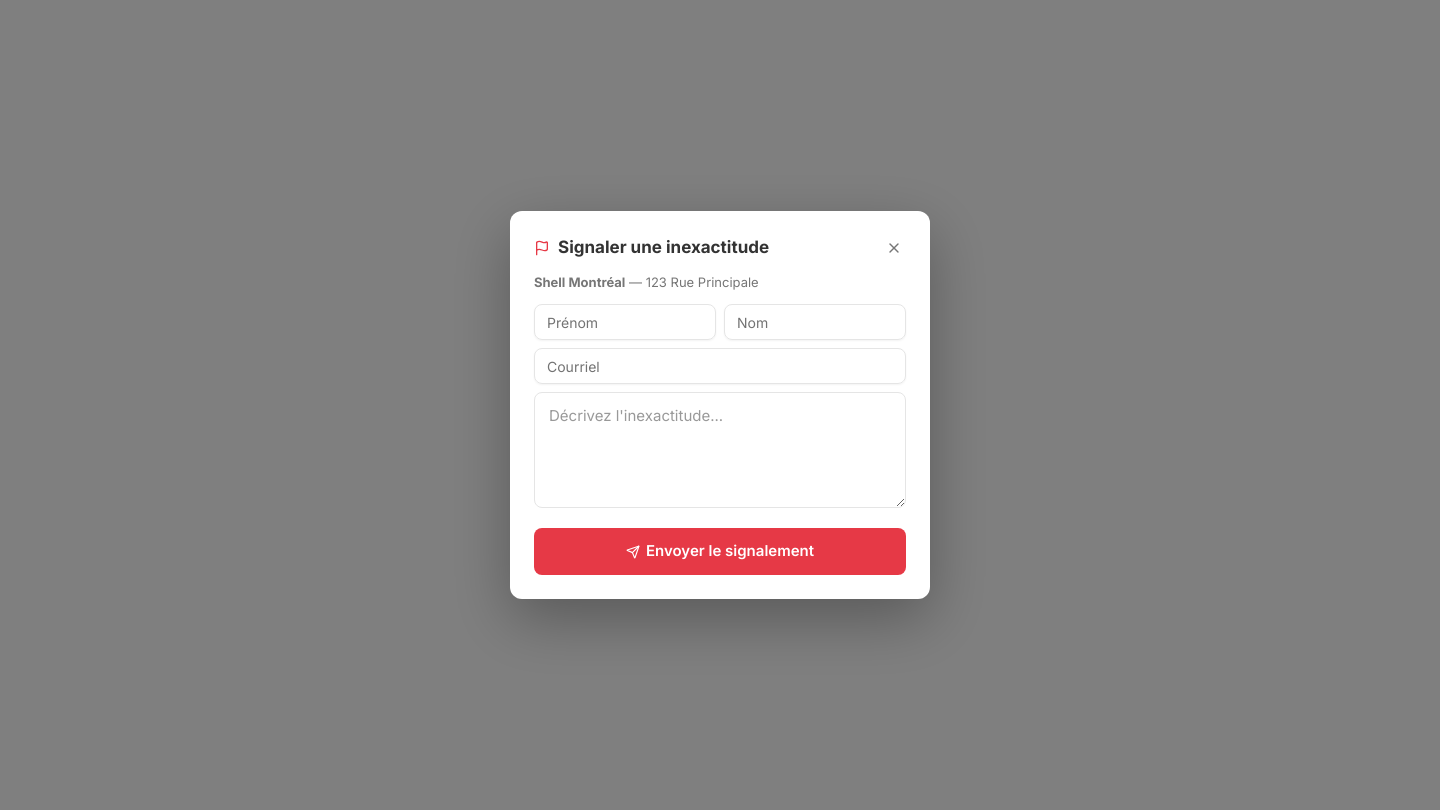
ReportModal › affiche les erreurs de validation quand on soumet un formulaire vide
Click the button "Envoyer le signalement". click: (720, 552)
box: x1=534 y1=528 x2=906 y2=575
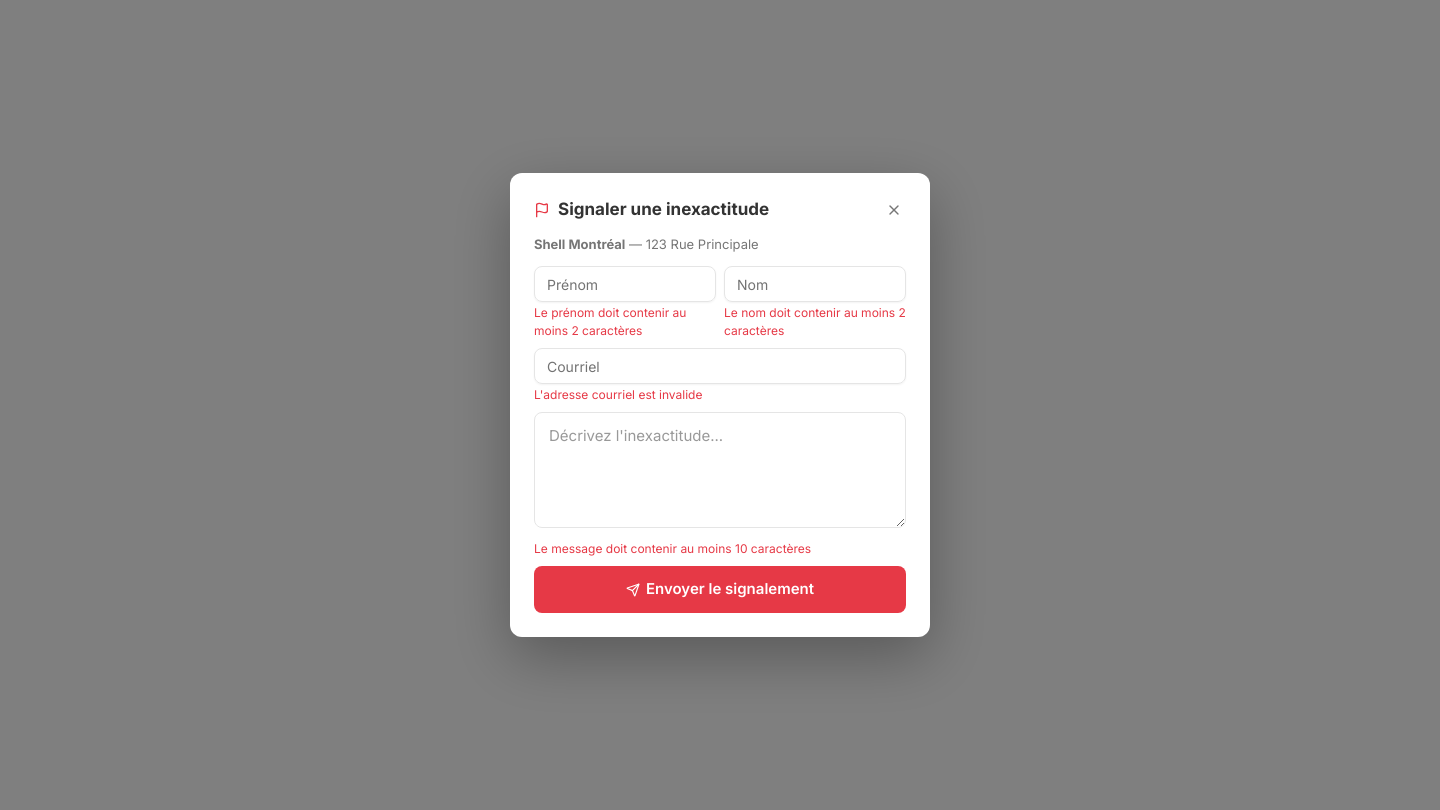
Expected: the text "Le prénom doit contenir au moins 2 caractères" is shown, x1=534 y1=305 x2=686 y2=338
Expected: the text "Le nom doit contenir au moins 2 caractères" is shown, x1=724 y1=304 x2=906 y2=340
Expected: the text "L'adresse courriel est invalide" is shown, x1=534 y1=387 x2=702 y2=402
